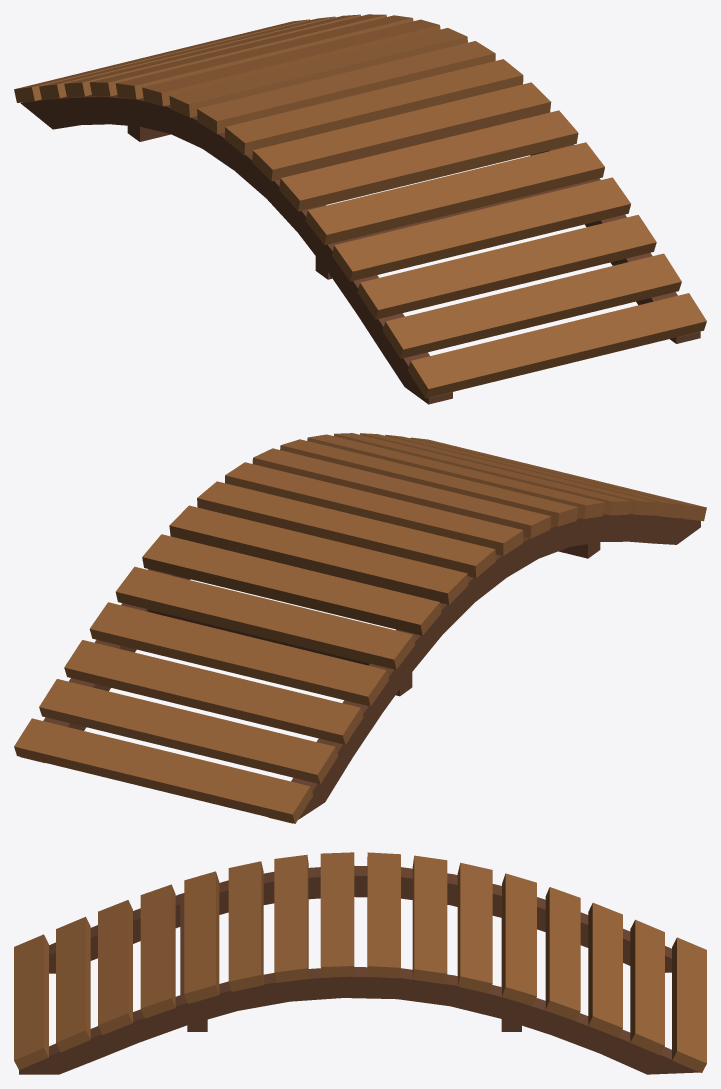
Rendered from Bridge_1_Long.fbx.
3 renders of one model, top to bottom at view 1: azimuth 30°, elevation 25°; view 2: azimuth 150°, elevation 25°; view 3: azimuth 270°, elevation 25°, orthographic. The views are drawn at different scales.
Parts seen in each view (by area): view 1: Brdige_1_Long; view 2: Brdige_1_Long; view 3: Brdige_1_Long.
Part boxes in pixels (x1,y1,x2,y2): Brdige_1_Long: (14, 14, 706, 404); Brdige_1_Long: (14, 433, 706, 823); Brdige_1_Long: (14, 852, 706, 1074).
Size of the model in its own units: 0.57 by 0.2573 by 1.47.
